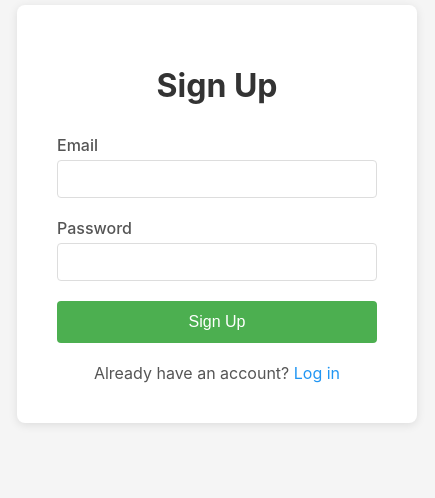
Test: SignupPage › displays error on signup failure
This screenshot has width=435, height=498.
Type "test@example.com" into the field labelled "Email" at (217, 179), box [57,160,377,198]
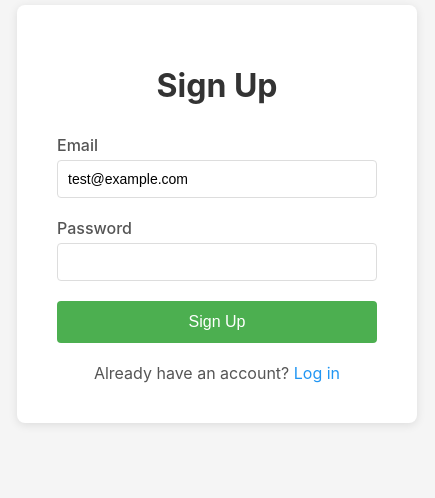
Type "password123" into the password field labelled "Password" at (217, 262), box [57,243,377,281]
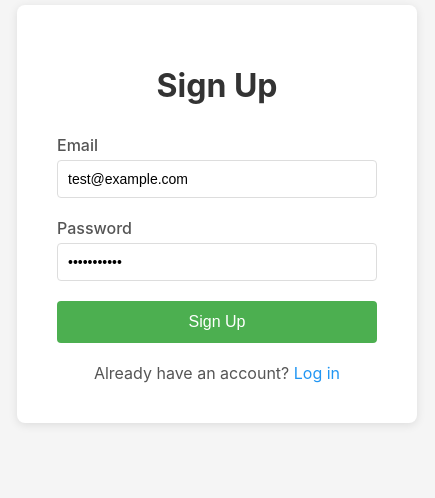
Click the button "Sign Up" at (217, 322), box [57,301,377,343]
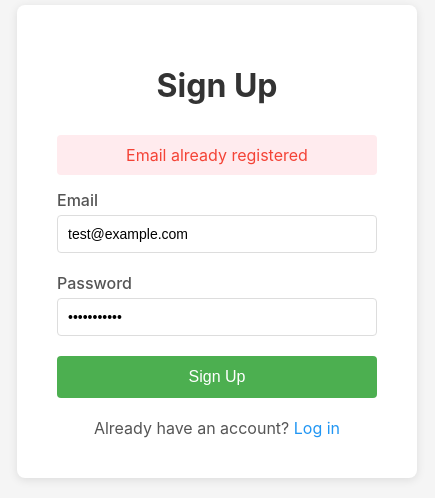
Result: the text "Email already registered" is shown at [57,135,377,175]
